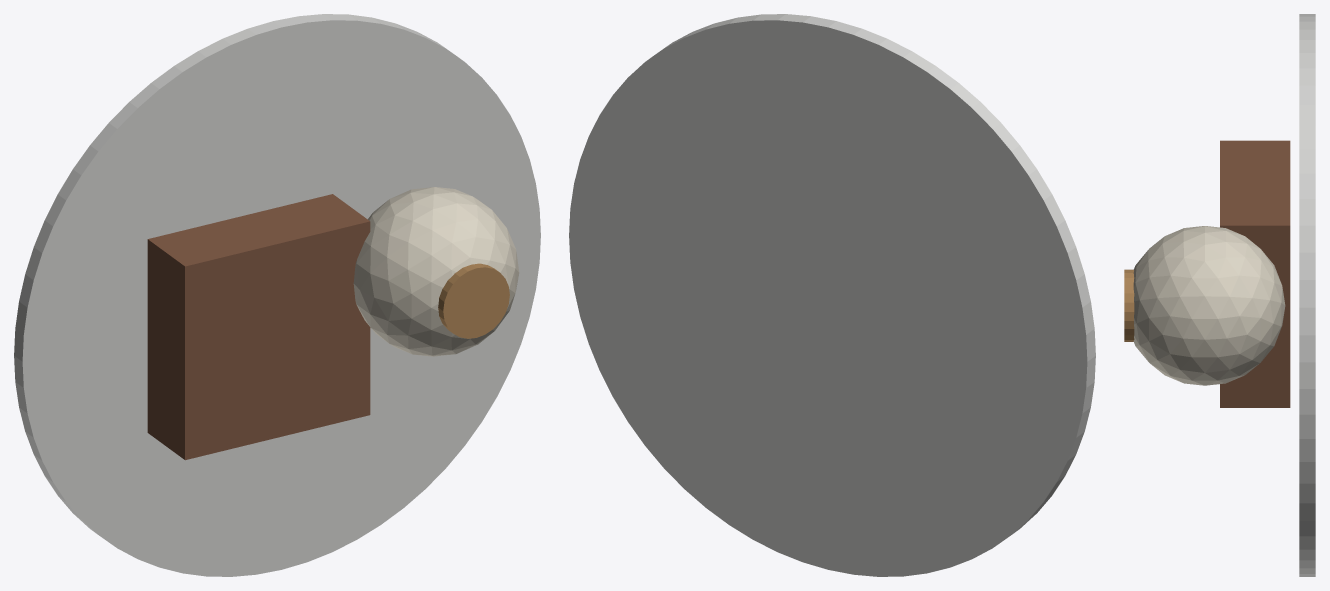
The model's file is brownie.glb.
3 views of the same model, side by side, from view 1: azimuth 30°, elevation 25°; view 2: azimuth 150°, elevation 25°; view 3: azimuth 270°, elevation 25° (orthographic). The views are drawn at different scales.
Parts seen in each view (by area): view 1: world; view 2: world; view 3: world.
Boxes of the visible parts, <box> form: world: <box>14,14,540,576</box>; world: <box>569,14,1095,576</box>; world: <box>1124,14,1315,576</box>.
Size of the model in its own units: 0.28 by 0.28 by 0.095.
